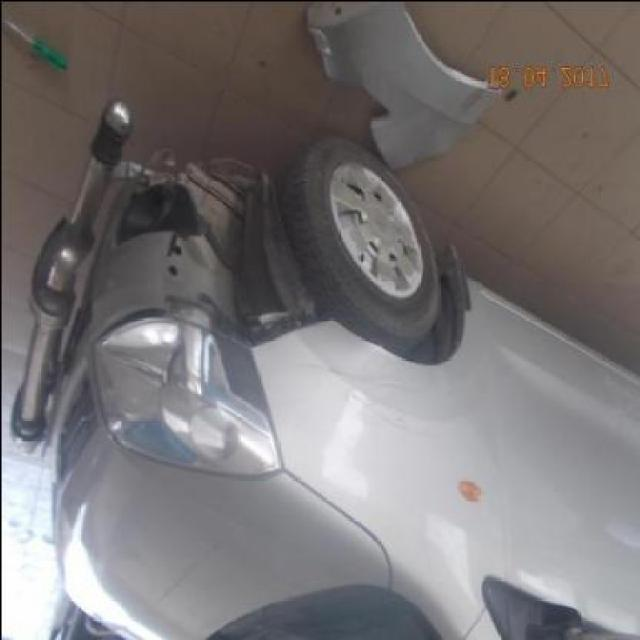damage: (132, 147, 333, 347)
